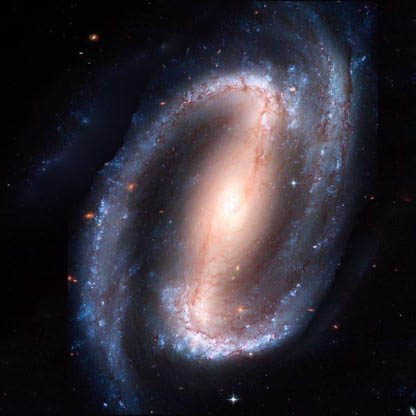NGC 1300: (73, 8, 370, 410)
